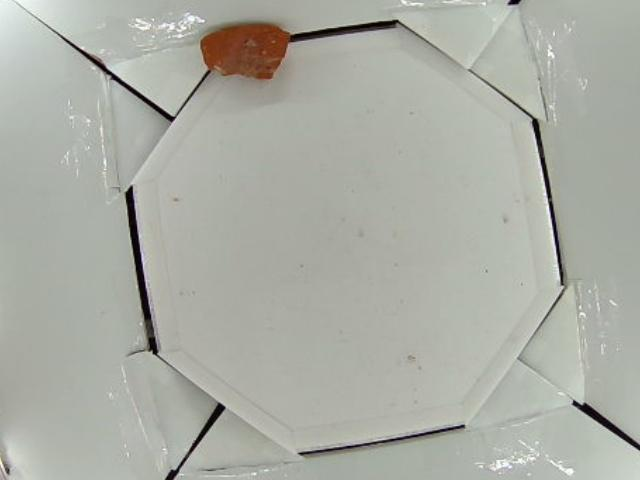Brisk: (200, 21, 293, 80)
